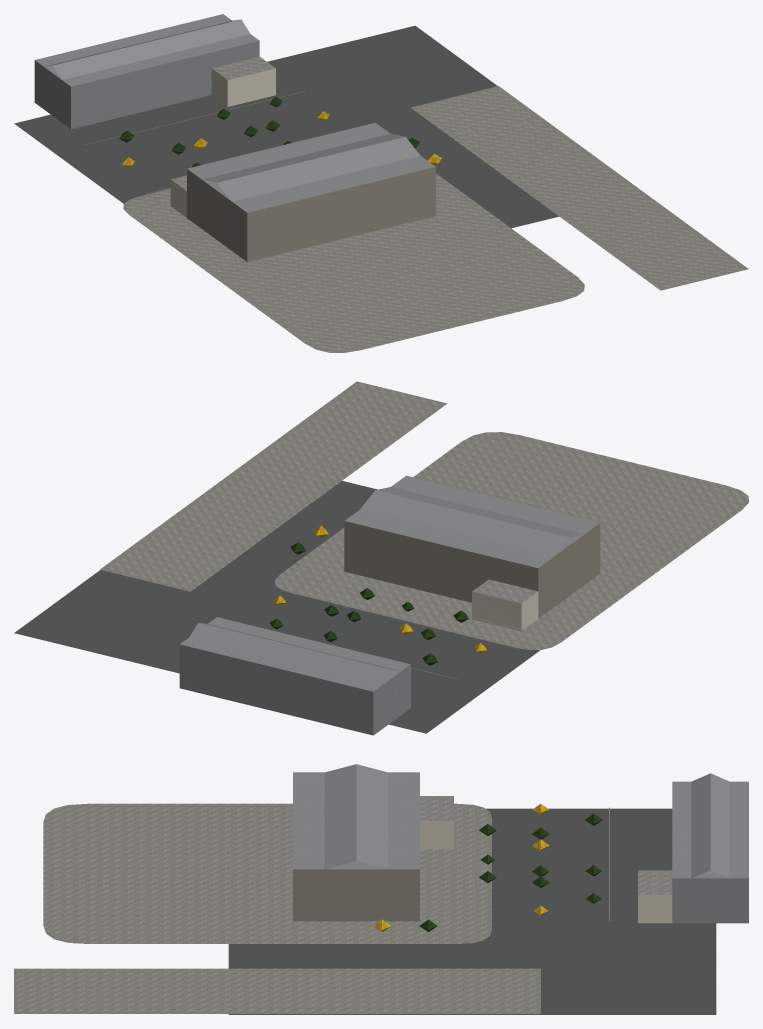
Rendered from cidade_S07_02_lod.gltf.
3 views of the same model, one above another, from view 1: azimuth 30°, elevation 25°; view 2: azimuth 150°, elevation 25°; view 3: azimuth 270°, elevation 25° (orthographic). The views are drawn at different scales.
Parts seen in each view (by area): view 1: S07_02_Chao_LOD2, S07_02_Edificios_LOD1, S07_02_Silhueta_LOD2, S07_02_Vegetacao_LOD2; view 2: S07_02_Chao_LOD2, S07_02_Edificios_LOD1, S07_02_Silhueta_LOD2, S07_02_Vegetacao_LOD2; view 3: S07_02_Chao_LOD2, S07_02_Edificios_LOD1, S07_02_Silhueta_LOD2, S07_02_Vegetacao_LOD2.
Boxes of the visible parts, x1,y1,x2,y2 form: S07_02_Chao_LOD2: [14, 25, 748, 352]; S07_02_Edificios_LOD1: [34, 19, 435, 261]; S07_02_Silhueta_LOD2: [34, 14, 435, 261]; S07_02_Vegetacao_LOD2: [119, 97, 441, 167]; S07_02_Chao_LOD2: [14, 381, 748, 733]; S07_02_Edificios_LOD1: [179, 487, 600, 735]; S07_02_Silhueta_LOD2: [179, 475, 600, 735]; S07_02_Vegetacao_LOD2: [270, 526, 487, 665]; S07_02_Chao_LOD2: [14, 803, 716, 1014]; S07_02_Edificios_LOD1: [293, 764, 748, 923]; S07_02_Silhueta_LOD2: [293, 772, 748, 923]; S07_02_Vegetacao_LOD2: [373, 803, 602, 931].
Bounding box in the file's own units: 102 × 13.81 × 151.
Materials: 9 (9 with a texture image).
